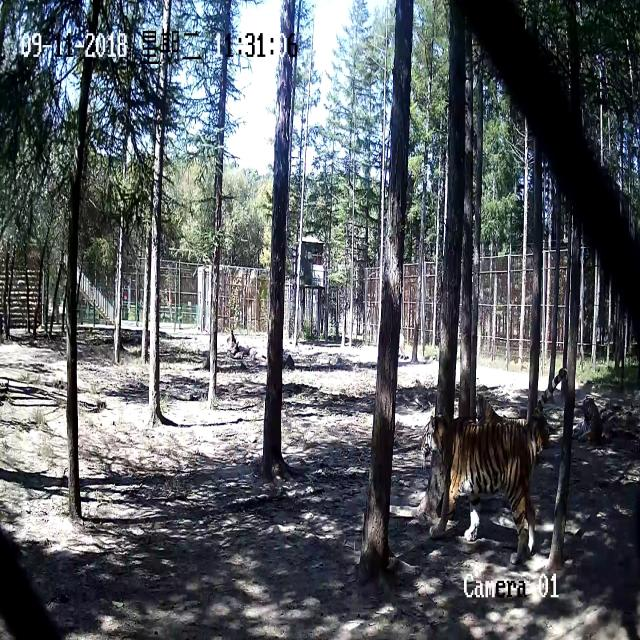Tiger: (414, 405, 553, 557), (574, 394, 607, 458)
